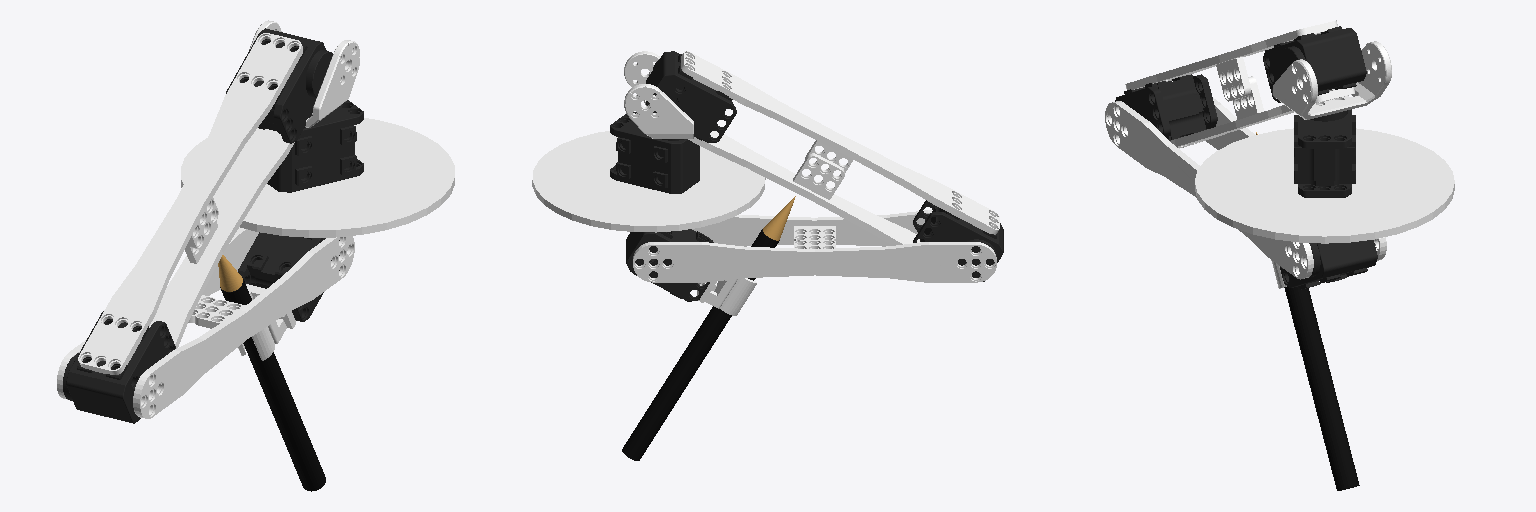
robot.urdf — qutarm:
<?xml version="1.0"?>
<robot name="qutarm">
  <link name="base_link">
    <visual>
      <geometry>
        <cylinder length="3" radius="50"/>
      </geometry>
      <material name="white">
        <color rgba="1 1 1 1" />
      </material>
    </visual>
  </link>
  <joint name="base_link_to_servo1" type="fixed">
    <parent link="base_link" />
    <child link="servo1_link" />
    <origin rpy="0 0 1.57075" xyz="-12 0 13.5" />
  </joint>
  <link name="servo1_link">
    <visual>
      <geometry>
        <mesh filename="package://qutarm_model/meshes/xl320d.stl" />
      </geometry>
      <material name="gray">
        <color rgba=".2 .2 .2 .9" />
      </material>
    </visual>
  </link>
  <joint name="servo1" type="revolute">
    <parent link="servo1_link" />
    <child link="base2" />
    <origin rpy="0 0 -2.61799" xyz="0 0 33" />
    <axis xyz="0 0 1" />
    <limit lower="0" upper="5.2359" effort="0.3" velocity="11.938" />
  </joint>
  <link name="base2" />
  <joint name="base2_to_pivot2" type="fixed">
    <parent link="base2" />
    <child link="pivot2" />
    <origin rpy="1.57075 0 0" xyz="0 12 0" />
  </joint>
  <link name="pivot2">
    <visual>
      <geometry>
        <mesh filename="package://qutarm_model/meshes/dmfb03w.stl" />
      </geometry>
      <material name="white">
        <color rgba="1 1 1 1" />
      </material>
    </visual>
  </link>
  <joint name="pivot2_to_servo2axis" type="fixed">
    <parent link="pivot2" />
    <child link="servo2axis" />
    <origin rpy="1.57075 0 1.57075" xyz="0 0 12" />
  </joint>
  <link name="servo2axis" />
  <joint name="servo2" type="revolute">
    <parent link="servo2axis" />
    <child link="servo2_link" />
    <origin rpy="0 0 -2.61799" xyz="0 0 0" />
    <axis xyz="0 0 1" />
    <limit lower="0" upper="5.2359" effort="0.3" velocity="11.938" />
  </joint>
  <link name="servo2_link">
    <visual>
      <geometry>
        <mesh filename="package://qutarm_model/meshes/xl320d.stl" />
      </geometry>
      <material name="gray">
        <color rgba=".2 .2 .2 .9" />
      </material>
    </visual>
  </link>
  <joint name="servo2_to_arm2top" type="fixed">
    <parent link="servo2_link" />
    <child link="arm2top" />
    <origin rpy="1.57075 0 -1.57075" xyz="13 -75 0" />
  </joint>
  <link name="arm2top">
    <visual>
      <geometry>
        <mesh filename="package://qutarm_model/meshes/arm150.stl" />
      </geometry>
      <material name="white">
        <color rgba="1 1 1 1" />
      </material>
    </visual>
  </link>
  <joint name="servo2_to_arm2bot" type="fixed">
    <parent link="servo2_link" />
    <child link="arm2bot" />
    <origin rpy="-1.57075 0 -1.57075" xyz="-13 -75 0" />
  </joint>
  <link name="arm2bot">
    <visual>
      <geometry>
        <mesh filename="package://qutarm_model/meshes/arm150.stl" />
      </geometry>
      <material name="white">
        <color rgba="1 1 1 1" />
      </material>
    </visual>
  </link>
  <joint name="arm2top_to_servo3" type="fixed">
    <parent link="arm2top" />
    <child link="servo3_link" />
    <origin rpy="1.57075 1.57075 0" xyz="75 0 13" />
  </joint>
  <link name="servo3_link">
    <visual>
      <geometry>
        <mesh filename="package://qutarm_model/meshes/xl320d.stl" />
      </geometry>
      <material name="gray">
        <color rgba=".2 .2 .2 .9" />
      </material>
    </visual>
  </link>
  <joint name="servo3" type="revolute">
    <parent link="servo3_link" />
    <child link="base4" />
    <origin rpy="0 0 -2.61799" xyz="0 0 0" />
    <axis xyz="0 0 1" />
    <limit lower="0" upper="5.2359" effort="0.3" velocity="11.938" />
  </joint>
  <link name="base4" />
  <joint name="base4_to_arm4right" type="fixed">
    <parent link="base4" />
    <child link="arm4right" />
    <origin rpy="0 0 1.57075" xyz="0 69.25 -16" />
  </joint>
  <link name="arm4right">
    <visual>
      <geometry>
        <mesh filename="package://qutarm_model/meshes/arm138.stl" />
      </geometry>
      <material name="white">
        <color rgba="1 1 1 1" />
      </material>
    </visual>
  </link>
  <joint name="arm4right_to_arm4left" type="fixed">
    <parent link="arm4right" />
    <child link="arm4left" />
    <origin rpy="0 3.14159 0" xyz="0 0 32" />
  </joint>
  <link name="arm4left">
    <visual>
      <geometry>
        <mesh filename="package://qutarm_model/meshes/arm138.stl" />
      </geometry>
      <material name="white">
        <color rgba="1 1 1 1" />
      </material>
    </visual>
  </link>
  <joint name="arm4left_to_servo4axis" type="fixed">
    <parent link="arm4left" />
    <child link="servo4axis" />
    <origin rpy="0 0 0" xyz="-69.25 0 16" />
  </joint>
  <link name="servo4axis" />
  <joint name="servo4" type="revolute">
    <parent link="servo4axis" />
    <child link="servo4_link" />
    <origin rpy="0 0 -4.18879" xyz="0 0 0" />
    <axis xyz="0 0 1" />
    <limit lower="0" upper="5.2359" effort="0.3" velocity="11.938" />
  </joint>
  <link name="servo4_link">
    <visual>
      <geometry>
        <mesh filename="package://qutarm_model/meshes/xl320d.stl" />
      </geometry>
      <material name="gray">
        <color rgba=".2 .2 .2 .9" />
      </material>
    </visual>
  </link>
  <joint name="servo4_to_pencilholder" type="fixed">
    <parent link="servo4_link" />
    <child link="pencilholder" />
    <origin rpy="0 0 3.14159" xyz="0 -27 0" />
  </joint>
  <link name="pencilholder">
    <visual>
      <geometry>
        <mesh filename="package://qutarm_model/meshes/pencilholder.stl" />
      </geometry>
      <material name="white">
        <color rgba="1 1 1 1" />
      </material>
    </visual>
  </link>
  <joint name="pencilholder_to_pencil" type="fixed">
    <parent link="pencilholder" />
    <child link="pencil" />
    <origin rpy="0 1.57075 0" xyz="-30 14 0" />
  </joint>
  <link name="pencil">
    <visual>
      <geometry>
        <cylinder length="120" radius="4.5" />
      </geometry>
      <material name="darkgrey">
        <color rgba="0.1 0.1 0.1 1" />
      </material>
    </visual>
  </link>
  <joint name="pencil_to_penciltip" type="fixed">
    <parent link="pencil" />
    <child link="penciltip" />
    <origin rpy="0 0 0" xyz="0 0 80" />
  </joint>
  <link name="penciltip">
    <visual>
      <geometry>
        <mesh filename="package://qutarm_model/meshes/penciltip.stl" scale="1.2 1.2 3" />
      </geometry>
      <material name="brown">
        <color rgba="0.9 0.7 0.4 1" />
      </material>
    </visual>
  </link>
</robot>

--- Facts derived from the render (not from the file) ---
3 views of the same robot in one strip: view 1: azimuth 30°, elevation 25°; view 2: azimuth 150°, elevation 25°; view 3: azimuth 270°, elevation 25° (orthographic).
Robot: qutarm — 17 links, 16 joints (4 revolute, 12 fixed); root link base_link; default pose: every joint at zero.
Links seen in each view (by area): view 1: arm2bot, base_link, arm4right, arm2top, servo1_link, servo3_link, pencil, servo2_link, servo4_link, pivot2, arm4left, pencilholder (+1 smaller); view 2: base_link, arm4left, arm2bot, arm2top, servo1_link, arm4right, pencil, servo2_link, pivot2, servo3_link, servo4_link, pencilholder (+1 smaller); view 3: base_link, arm4right, servo1_link, pencil, servo2_link, servo3_link, pivot2, arm2bot, servo4_link, arm2top, arm4left.
Link boxes in pixels (x1,y1,x2,y2): arm2bot: (78, 33, 302, 374); base_link: (181, 118, 454, 237); arm4right: (133, 236, 354, 418); arm2top: (149, 128, 294, 348); servo1_link: (267, 100, 363, 192); servo3_link: (63, 311, 175, 423); pencil: (220, 277, 325, 491); servo2_link: (226, 28, 332, 143); servo4_link: (238, 232, 339, 321); pivot2: (249, 20, 359, 127); arm4left: (57, 227, 258, 399); pencilholder: (238, 284, 295, 360); base_link: (532, 131, 765, 232); arm4left: (633, 240, 996, 282); arm2bot: (681, 51, 999, 234); arm2top: (688, 131, 920, 245); servo1_link: (610, 112, 699, 193); arm4right: (692, 210, 932, 246); pencil: (622, 229, 779, 460); servo2_link: (646, 51, 736, 142); pivot2: (624, 51, 693, 138); servo3_link: (913, 200, 1003, 281); servo4_link: (626, 229, 713, 301); pencilholder: (697, 278, 756, 315); base_link: (1195, 128, 1454, 243); arm4right: (1105, 101, 1313, 279); servo1_link: (1294, 109, 1355, 197); pencil: (1284, 286, 1359, 490); servo2_link: (1263, 26, 1366, 102); servo3_link: (1115, 74, 1217, 140); pivot2: (1273, 41, 1391, 119); arm2bot: (1125, 20, 1337, 101); servo4_link: (1280, 240, 1377, 289); arm2top: (1170, 76, 1354, 148); arm4left: (1206, 98, 1386, 260).
Bounding box of the posed robot: 191 × 134 × 190 m (x, y, z).
Meshes: 6 distinct files referenced, 11 mesh visuals loaded (6 binary STL).